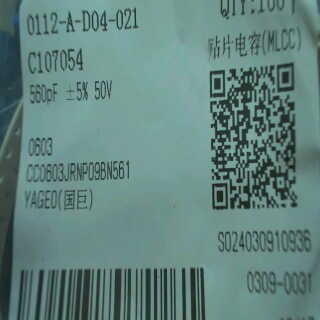560pF: (25, 77, 61, 106)
